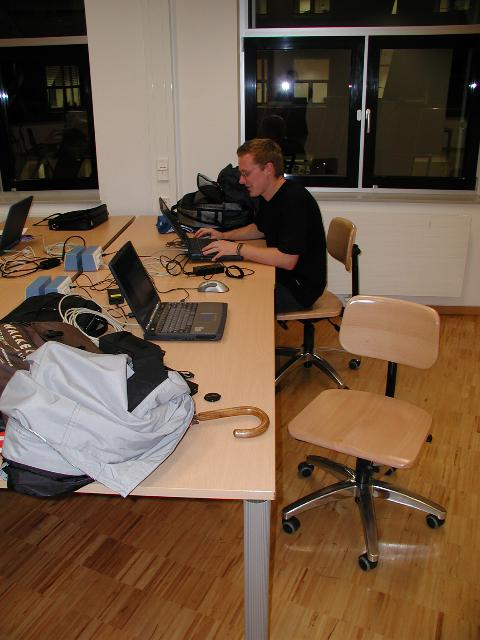Person: (190, 133, 327, 308)
